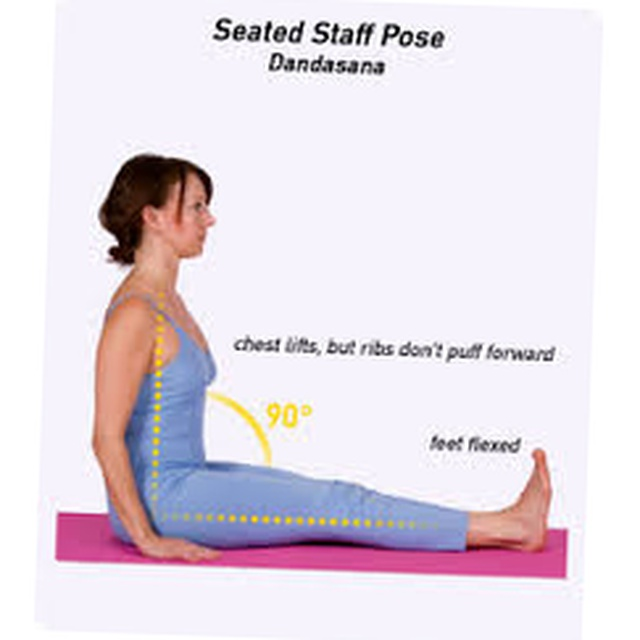Staff_Pose: (92, 154, 552, 562)
